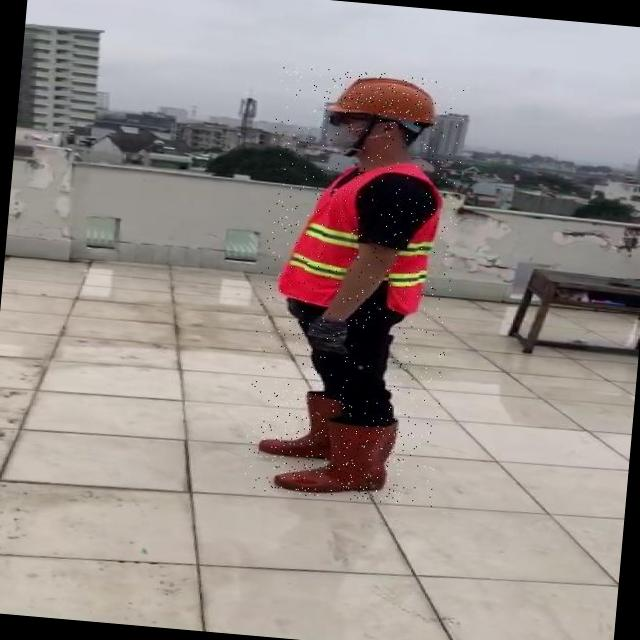boots: (271, 406, 406, 504), (258, 388, 348, 462)
gloves: (273, 303, 356, 376)
helmet: (320, 68, 438, 126)
vest: (274, 153, 452, 314)
